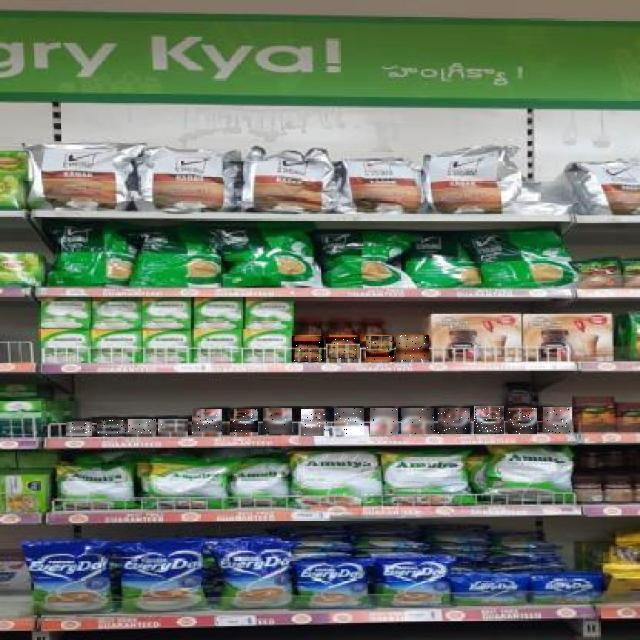Coffee: (326, 336, 360, 362), (402, 408, 436, 434), (396, 336, 429, 362), (474, 406, 504, 434), (293, 336, 325, 362), (438, 408, 470, 434), (334, 408, 364, 435), (192, 410, 222, 436), (370, 408, 398, 435), (508, 408, 537, 434), (543, 407, 572, 433), (263, 409, 292, 435), (366, 336, 394, 362), (230, 410, 258, 436), (302, 409, 328, 436), (97, 421, 128, 437), (158, 420, 188, 436), (127, 420, 156, 436), (66, 422, 92, 436)
